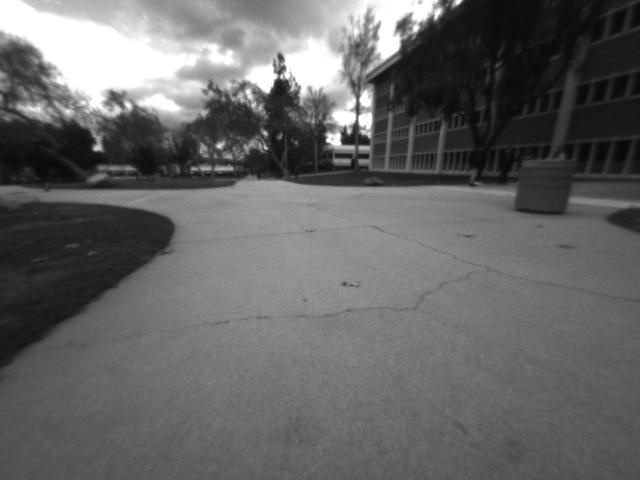trashcan: (519, 158, 570, 219)
